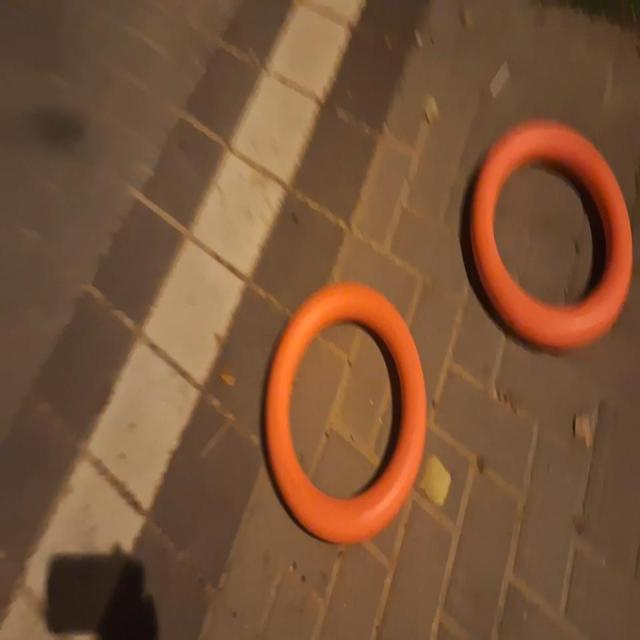note: (261, 278, 428, 546), (472, 118, 634, 353)
